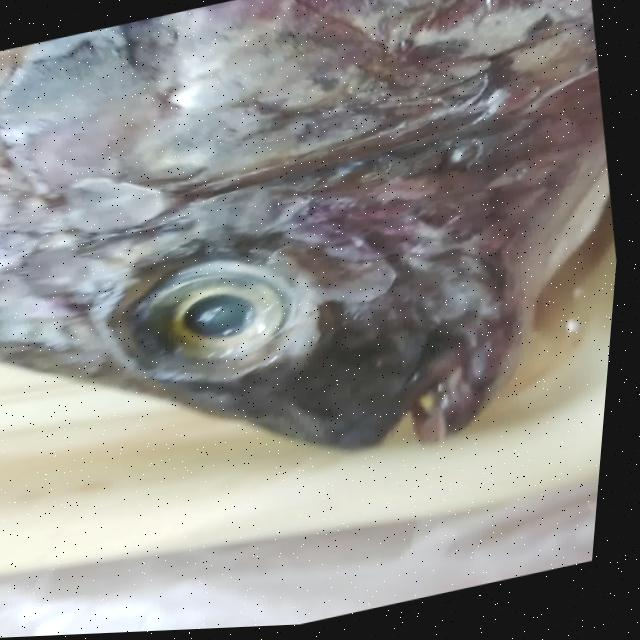Non-Fresh: (0, 0, 607, 257), (86, 194, 371, 413)
